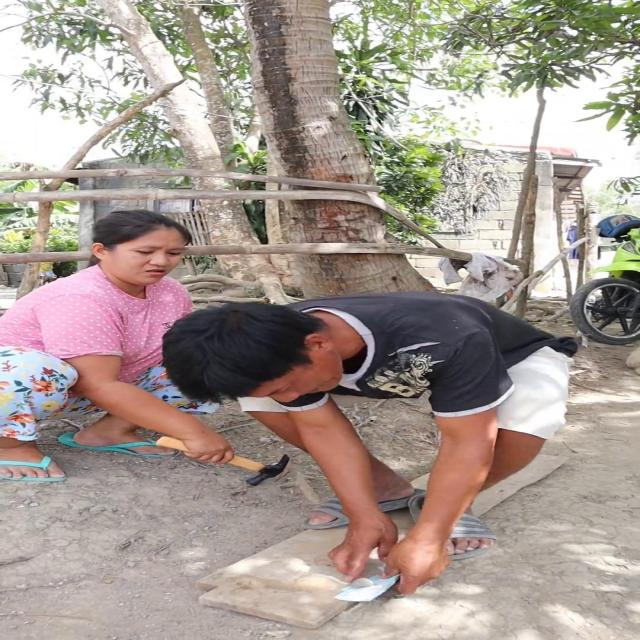hammer: (157, 436, 289, 487)
